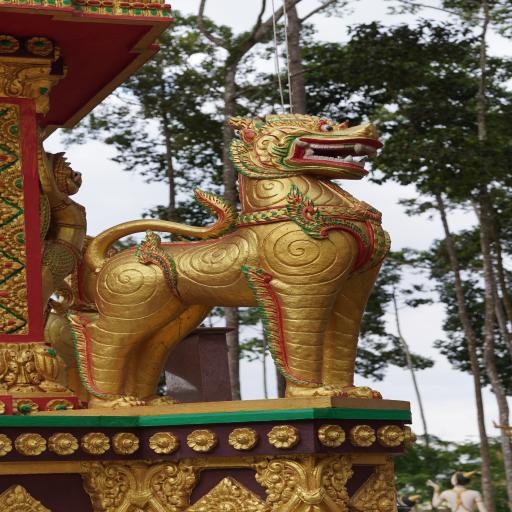hoa: (1, 264, 37, 322), (0, 208, 33, 267), (0, 108, 24, 158), (0, 163, 26, 209), (10, 430, 46, 458), (309, 422, 346, 448), (265, 426, 303, 451), (222, 427, 260, 449), (48, 431, 78, 458), (77, 430, 106, 457), (182, 428, 214, 452), (111, 429, 138, 456), (148, 428, 174, 456), (9, 396, 40, 418), (348, 424, 376, 448), (378, 426, 406, 448), (44, 395, 74, 414), (0, 308, 21, 334), (0, 252, 18, 282), (0, 429, 14, 460), (0, 198, 14, 223), (0, 148, 17, 168)
la: (19, 341, 73, 393), (0, 342, 18, 394)
than: (46, 101, 474, 421), (36, 141, 98, 339)
